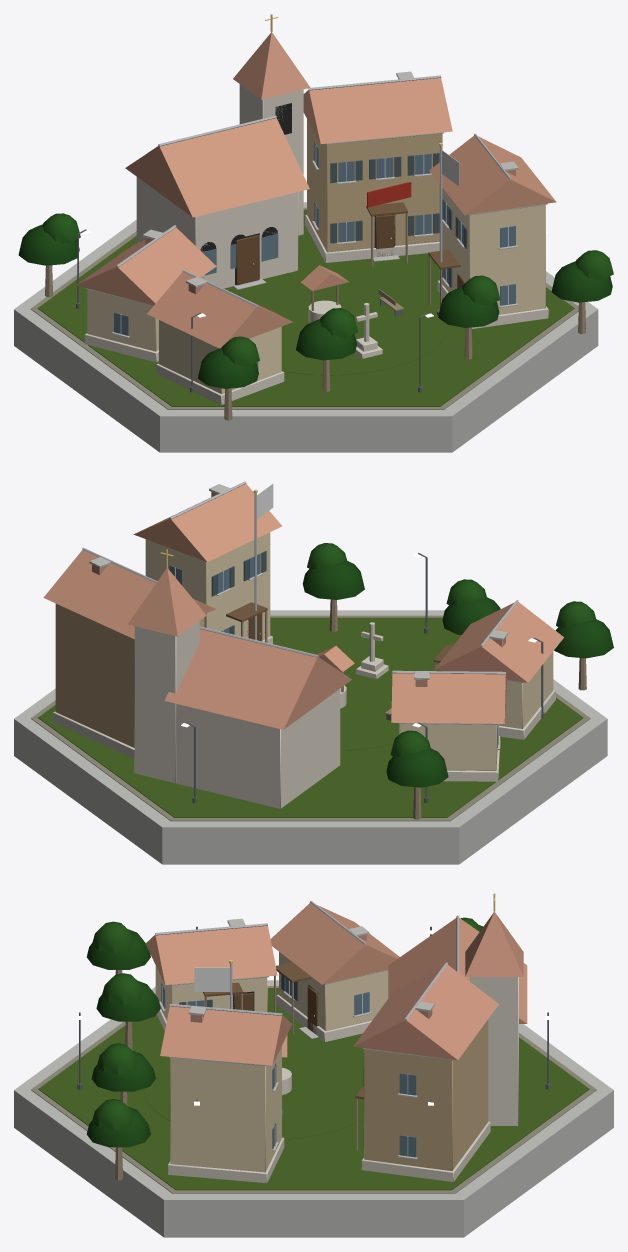
Rendered from villageCenter_med.glb.
3 views of the same model, one above another, from view 1: azimuth 30°, elevation 25°; view 2: azimuth 150°, elevation 25°; view 3: azimuth 270°, elevation 25° (orthographic). The views are drawn at different scales.
Visible parts, largest first — view 1: roof_tile, wall_concrete, turf, plaster, stone, leaf, wood, glass, pavers, metal, dark, paint (+1 smaller); view 2: roof_tile, wall_concrete, turf, stone, plaster, leaf, pavers, wood, metal, steel_dark, glass; view 3: wall_concrete, roof_tile, plaster, turf, leaf, stone, pavers, wood, glass, metal, banner.
Boxes of the visible parts, left/top/right/bottom form: roof_tile: left=76, top=32, right=556, bottom=348; wall_concrete: left=14, top=71, right=598, bottom=452; turf: left=37, top=209, right=574, bottom=406; plaster: left=87, top=119, right=545, bottom=393; stone: left=84, top=84, right=548, bottom=404; leaf: left=18, top=213, right=613, bottom=388; wood: left=45, top=153, right=585, bottom=420; glass: left=114, top=141, right=515, bottom=368; pavers: left=31, top=207, right=578, bottom=409; metal: left=116, top=75, right=511, bottom=307; dark: left=200, top=103, right=395, bottom=284; paint: left=367, top=182, right=411, bottom=207; roof_tile: left=43, top=484, right=563, bottom=729; wall_concrete: left=14, top=484, right=607, bottom=864; turf: left=38, top=617, right=583, bottom=817; stone: left=53, top=621, right=555, bottom=808; plaster: left=55, top=532, right=553, bottom=770; leaf: left=302, top=543, right=613, bottom=787; pavers: left=31, top=615, right=590, bottom=821; wood: left=211, top=551, right=586, bottom=819; metal: left=82, top=481, right=518, bottom=674; steel_dark: left=186, top=552, right=544, bottom=803; glass: left=169, top=553, right=498, bottom=747; wall_concrete: left=14, top=918, right=613, bottom=1237; roof_tile: left=145, top=903, right=527, bottom=1065; plaster: left=155, top=952, right=488, bottom=1172; turf: left=38, top=988, right=589, bottom=1190; leaf: left=86, top=917, right=483, bottom=1147; stone: left=156, top=977, right=518, bottom=1183; pavers: left=31, top=986, right=596, bottom=1193; wood: left=115, top=962, right=363, bottom=1180; glass: left=161, top=978, right=416, bottom=1157; metal: left=155, top=901, right=459, bottom=1020; banner: left=194, top=967, right=230, bottom=991.
Size of the model in its own units: 21.3 by 11.8 by 24.6.
